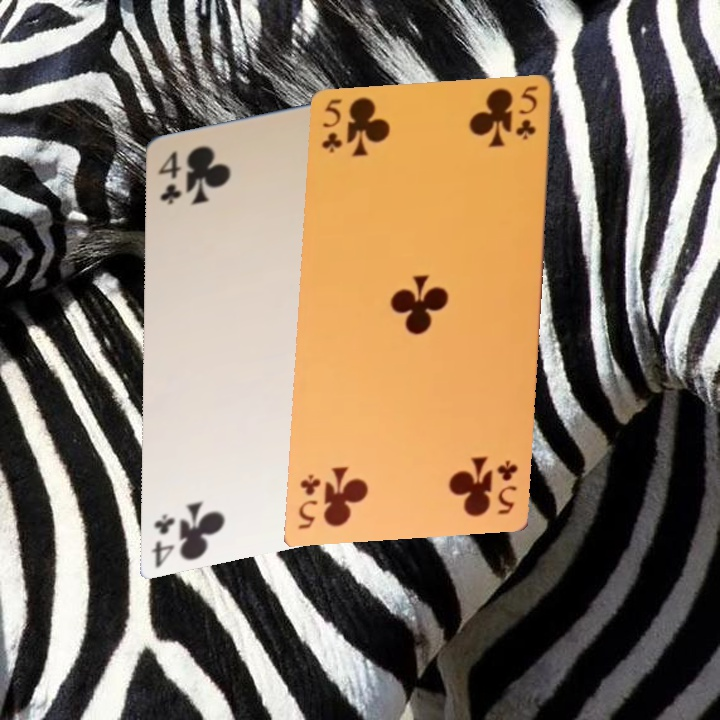4c: (157, 141, 184, 209), (152, 500, 179, 567)
5c: (492, 456, 521, 523), (318, 98, 347, 164), (515, 85, 544, 151), (295, 470, 324, 536)
